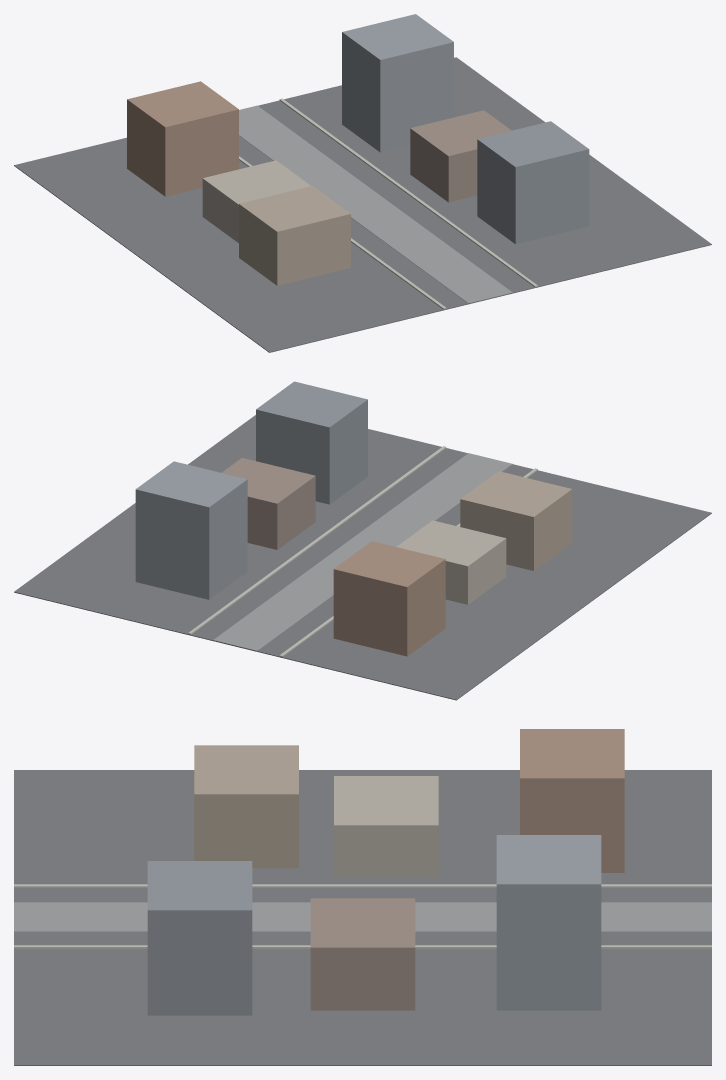
Rendered from sample-street.glb.
The picture shows the model from 3 angles, top to bottom: view 1: azimuth 30°, elevation 25°; view 2: azimuth 150°, elevation 25°; view 3: azimuth 270°, elevation 25°; orthographic projection. The views are drawn at different scales.
Visible parts, largest first — view 1: sample-street; view 2: sample-street; view 3: sample-street.
Part boxes in pixels (x1=…): sample-street: x1=14, y1=14, x2=711, y2=352; sample-street: x1=14, y1=381, x2=711, y2=700; sample-street: x1=14, y1=729, x2=711, y2=1065.
Bounding box in the file's own units: 60 × 12.1 × 60.
